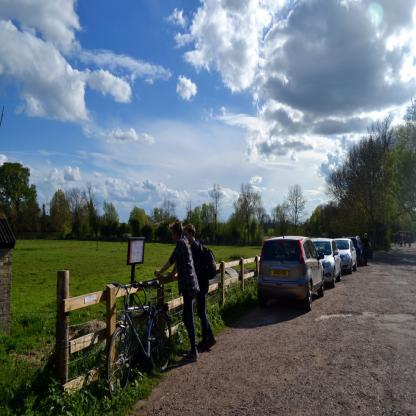Car: (255, 236, 324, 315), (309, 235, 340, 288), (331, 236, 357, 272), (346, 232, 362, 264)
